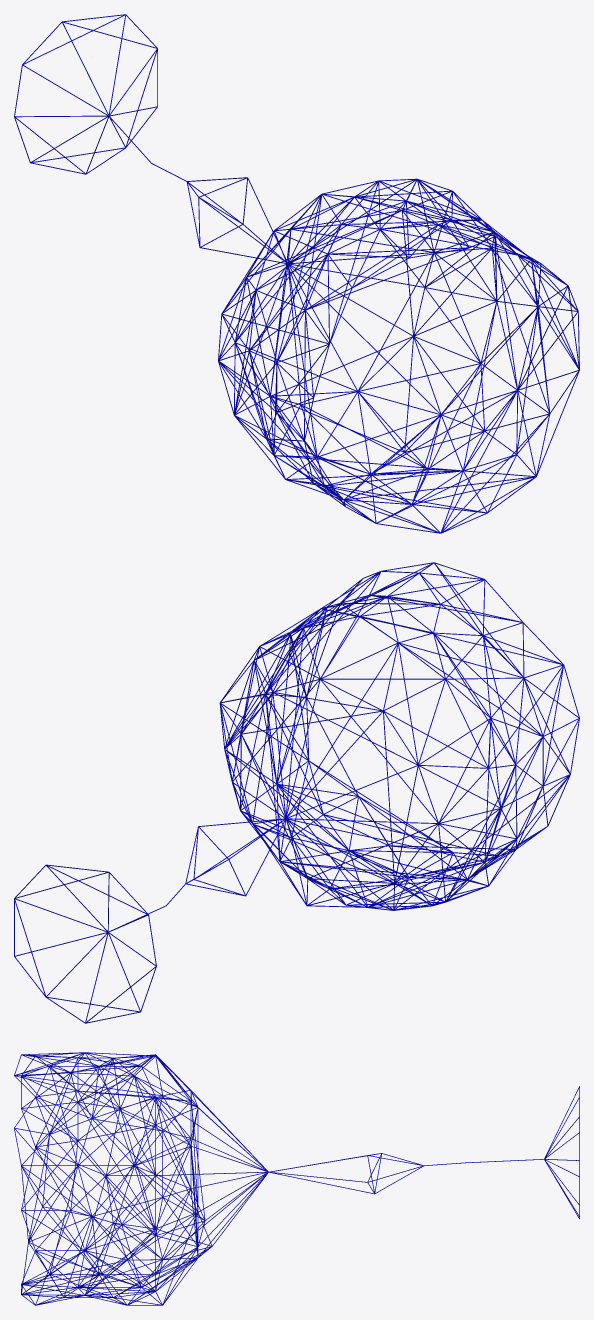
Rendered from cup.glb.
3 renders of one model, top to bottom at view 1: azimuth 30°, elevation 25°; view 2: azimuth 150°, elevation 25°; view 3: azimuth 270°, elevation 25°, orthographic. The views are drawn at different scales.
Parts seen in each view (by area): view 1: world; view 2: world; view 3: world.
Boxes of the visible parts, left/top/right/bottom form: world: left=14, top=14, right=579, bottom=533; world: left=14, top=562, right=579, bottom=1023; world: left=14, top=1052, right=579, bottom=1305.
Bounding box in the file's own units: 36.1 × 35.1 × 80.1.
